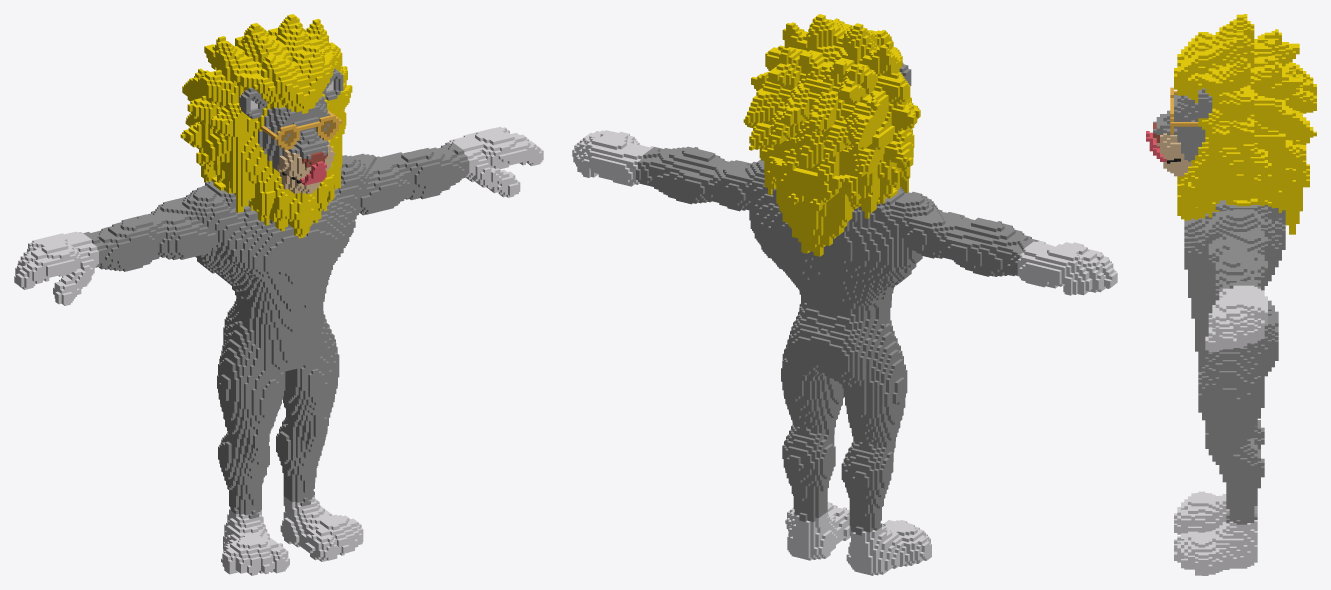
The model's file is 976-CQRRl7RA.glb.
3 renders of one model, left to right at view 1: azimuth 30°, elevation 25°; view 2: azimuth 150°, elevation 25°; view 3: azimuth 270°, elevation 25°, orthographic. The views are drawn at different scales.
Parts seen in each view (by area): view 1: licking_nose; view 2: licking_nose; view 3: licking_nose.
Part boxes in pixels (left/top/right/bottom): licking_nose: left=14, top=14, right=543, bottom=575; licking_nose: left=572, top=14, right=1117, bottom=575; licking_nose: left=1146, top=14, right=1316, bottom=575.
Bounding box in the file's own units: 17.2 × 16.5 × 4.9.
Materials: 4 (4 with a texture image).
